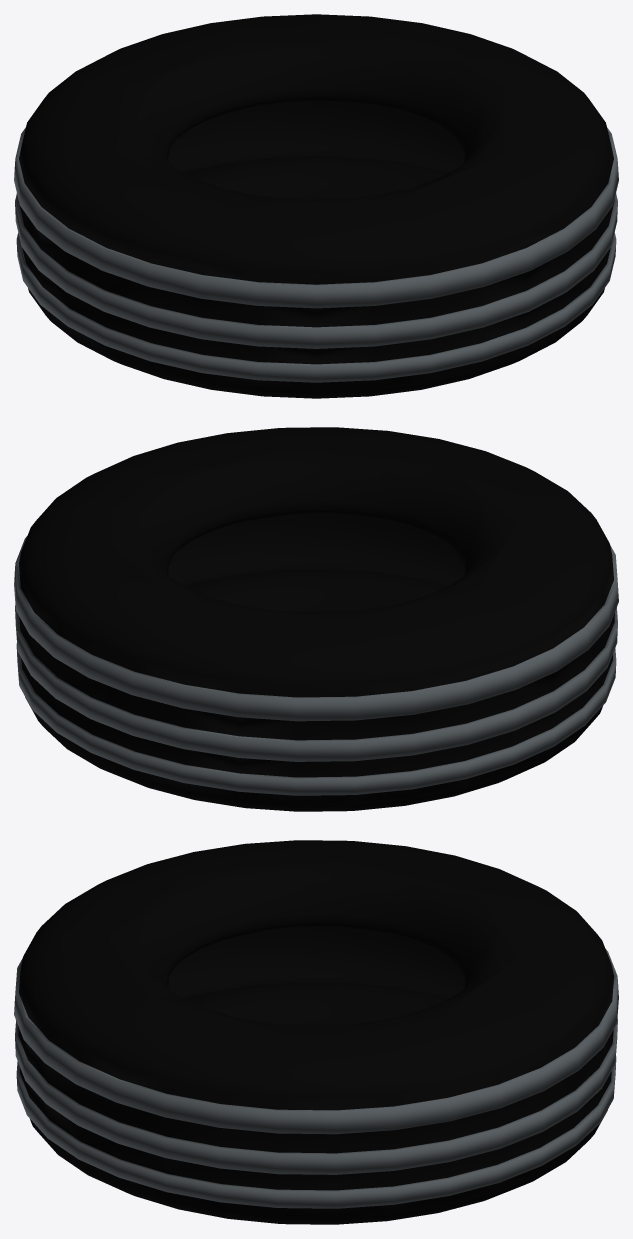
The model's file is Toy9.fbx.
3 renders of one model, top to bottom at view 1: azimuth 30°, elevation 25°; view 2: azimuth 150°, elevation 25°; view 3: azimuth 270°, elevation 25°, orthographic.
Visible parts, largest first — view 1: Toy9; view 2: Toy9; view 3: Toy9.
Boxes of the visible parts, box(x1,y1,x2,y2) form: Toy9: box(14, 14, 618, 398); Toy9: box(14, 427, 618, 811); Toy9: box(14, 840, 618, 1224).
Bounding box in the file's own units: 0.1749 × 0.0559 × 0.1749.
